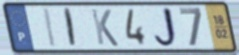4: (125, 8, 147, 48)
7: (177, 7, 205, 49)
I: (43, 7, 59, 49), (64, 7, 78, 50)
J: (152, 5, 181, 50)
K: (89, 8, 121, 48)
